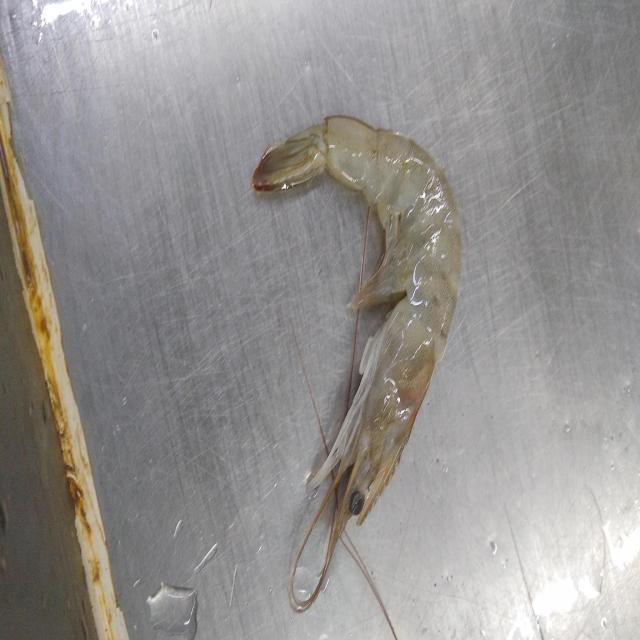shrimp: (249, 116, 464, 616)
